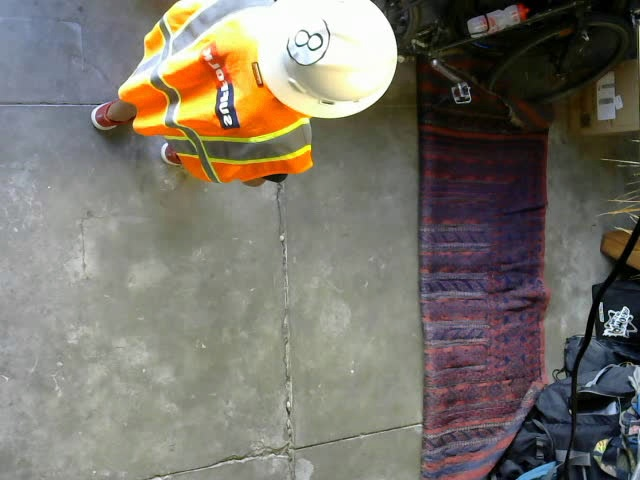eight: (285, 9, 331, 66)
